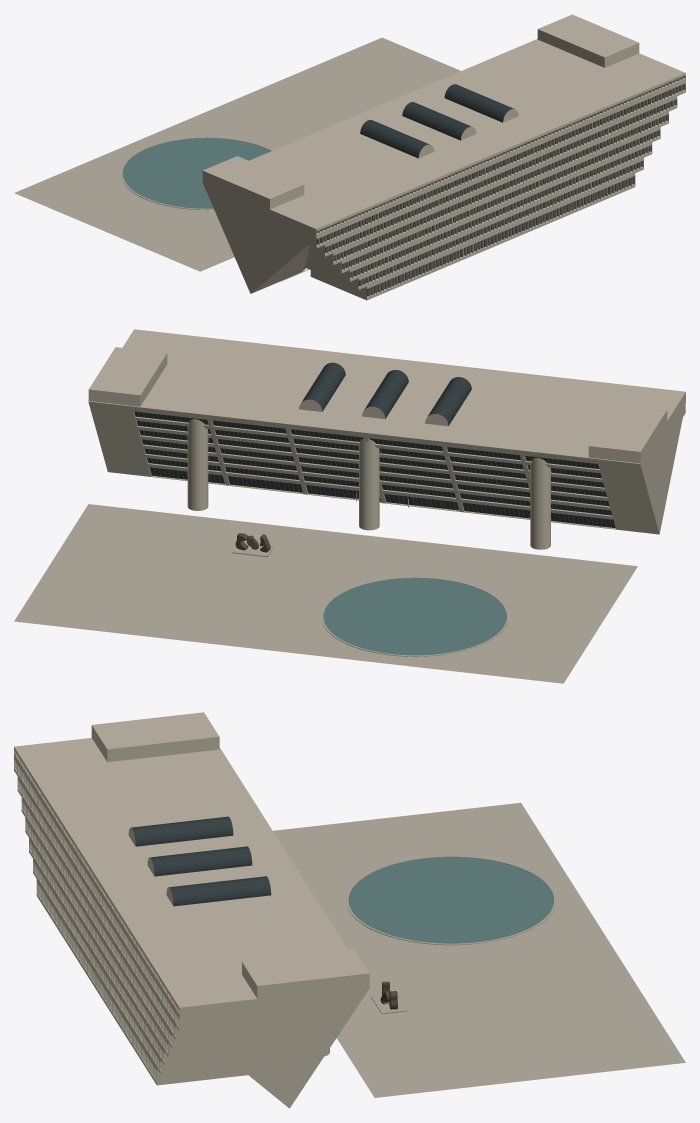
Rendered from dallas-city-hall-near.glb.
3 views of the same model, one above another, from view 1: azimuth 30°, elevation 25°; view 2: azimuth 150°, elevation 25°; view 3: azimuth 270°, elevation 25° (orthographic). The views are drawn at different scales.
Visible parts, largest first — view 1: dallas-city-hall-0-concrete, dallas-city-hall-0-paving, dallas-city-hall-0-glass, dallas-city-hall-0-water; view 2: dallas-city-hall-0-concrete, dallas-city-hall-0-paving, dallas-city-hall-0-glass, dallas-city-hall-0-water, dallas-city-hall-0-joint; view 3: dallas-city-hall-0-concrete, dallas-city-hall-0-paving, dallas-city-hall-0-water, dallas-city-hall-0-glass.
Part boxes in pixels (x1,y1,x2,y2): dallas-city-hall-0-concrete: [202, 14, 685, 300]; dallas-city-hall-0-paving: [14, 37, 460, 271]; dallas-city-hall-0-glass: [316, 76, 683, 296]; dallas-city-hall-0-water: [122, 138, 271, 208]; dallas-city-hall-0-concrete: [88, 329, 685, 549]; dallas-city-hall-0-paving: [14, 504, 637, 683]; dallas-city-hall-0-glass: [134, 362, 615, 527]; dallas-city-hall-0-water: [323, 578, 506, 655]; dallas-city-hall-0-joint: [134, 412, 611, 527]; dallas-city-hall-0-concrete: [14, 712, 370, 1108]; dallas-city-hall-0-paving: [273, 802, 685, 1097]; dallas-city-hall-0-water: [348, 857, 554, 943]; dallas-city-hall-0-glass: [131, 816, 271, 906].
Size of the model in its own units: 201 by 37.19 by 179.
